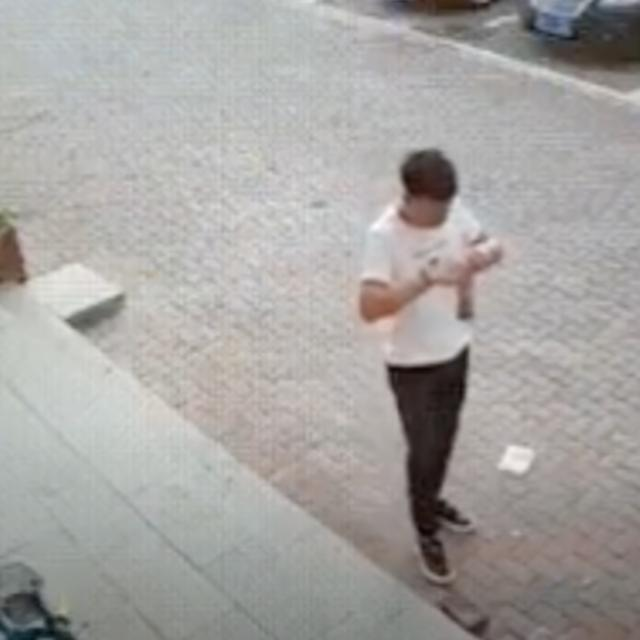person: (356, 147, 504, 588)
